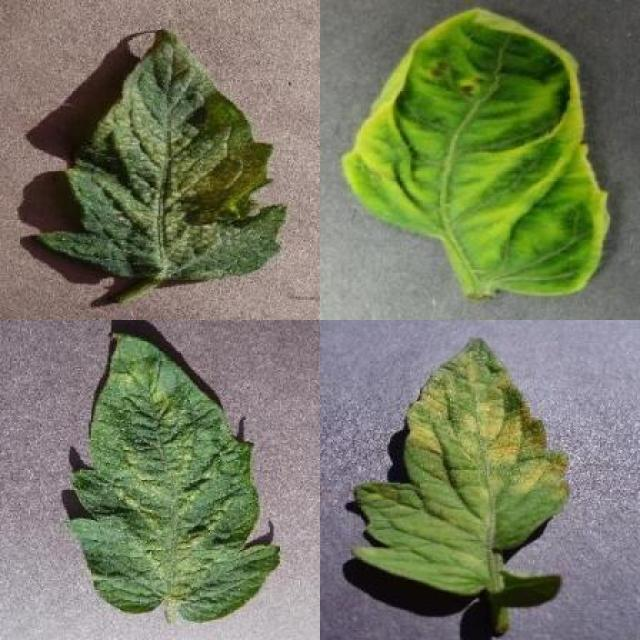Leaf Mold: (353, 336, 570, 594)
Spider Mites: (37, 27, 289, 283), (66, 334, 281, 620)
Yellow Leaf Curl Virus: (340, 5, 613, 298)
